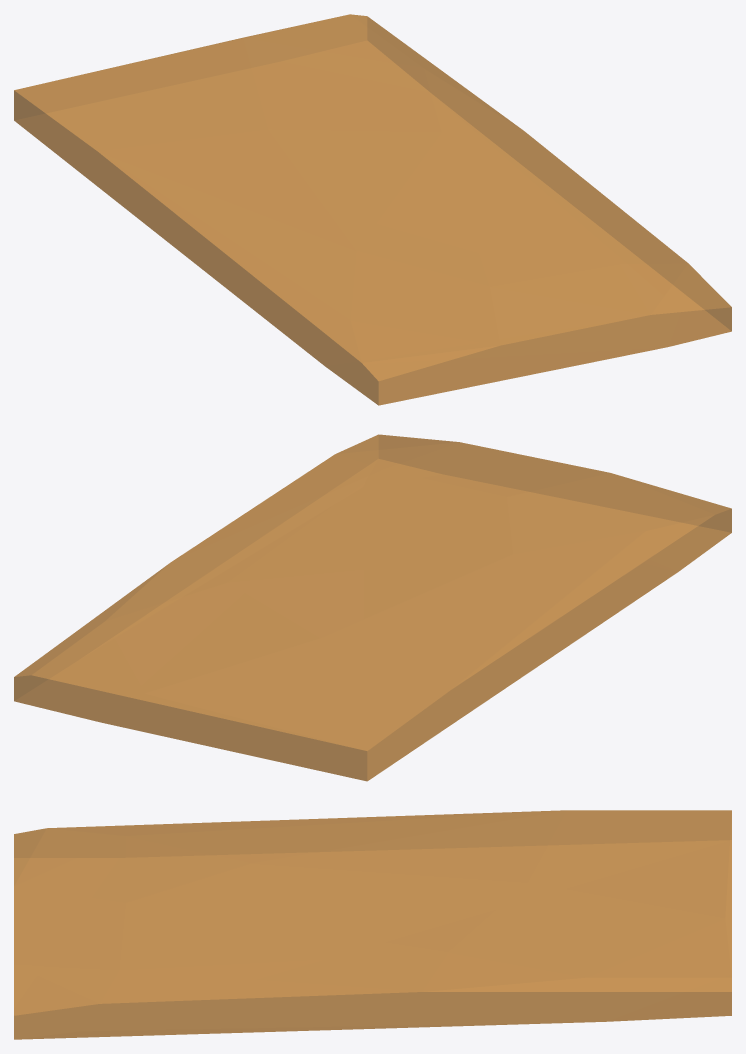
The picture shows the model from 3 angles, top to bottom: view 1: azimuth 30°, elevation 25°; view 2: azimuth 150°, elevation 25°; view 3: azimuth 270°, elevation 25°; orthographic projection.
Parts seen in each view (by area): view 1: Shape_IndexedFaceSet.011_Shape_IndexedFaceSet.10721; view 2: Shape_IndexedFaceSet.011_Shape_IndexedFaceSet.10721; view 3: Shape_IndexedFaceSet.011_Shape_IndexedFaceSet.10721.
Part boxes in pixels (x1,y1,x2,y2): Shape_IndexedFaceSet.011_Shape_IndexedFaceSet.10721: [14, 14, 731, 405]; Shape_IndexedFaceSet.011_Shape_IndexedFaceSet.10721: [14, 434, 731, 781]; Shape_IndexedFaceSet.011_Shape_IndexedFaceSet.10721: [14, 810, 731, 1039].
Size of the model in its own units: 0.2014 by 0.033 by 0.36.
